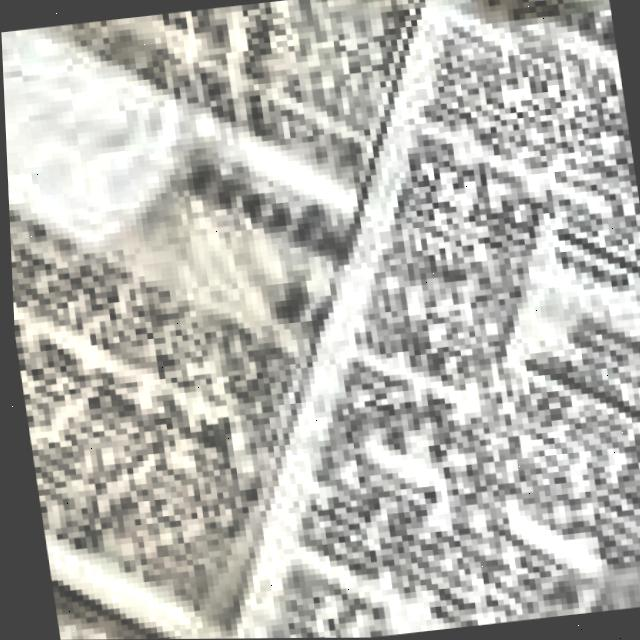paper: (5, 0, 640, 640)
